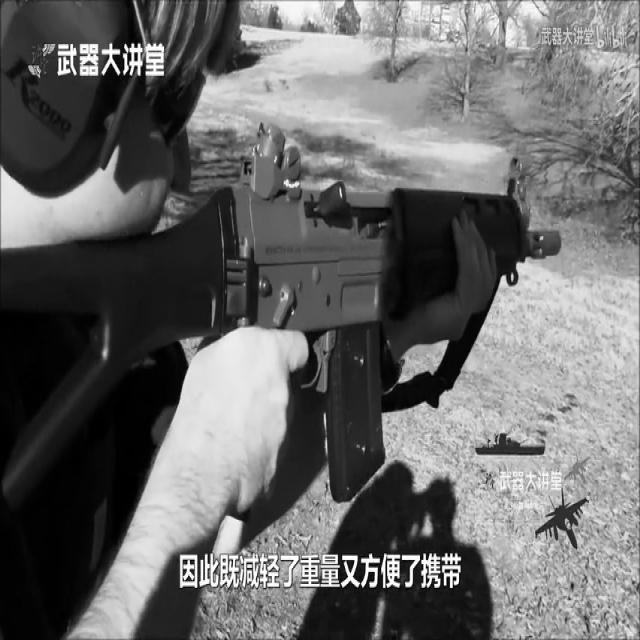Sub-machine-gun: (52, 132, 577, 496)
